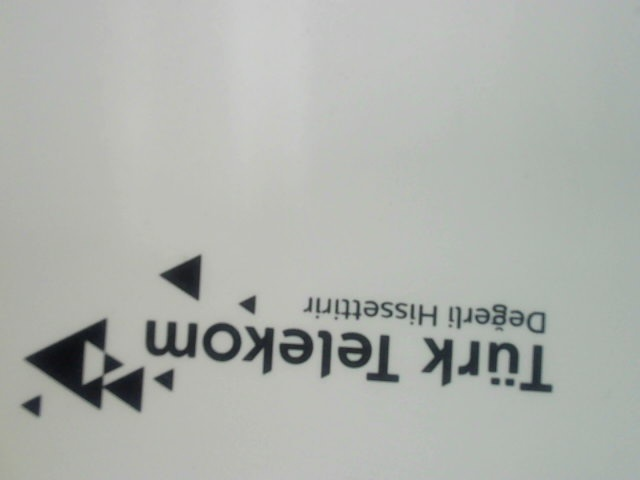AQ_TURKTelekom: (15, 238, 580, 428)
